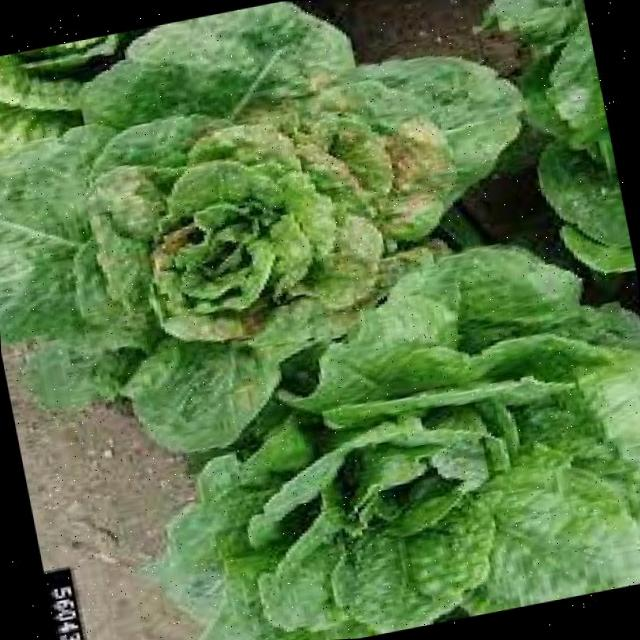Powdery_Mildew: (6, 58, 492, 412)
